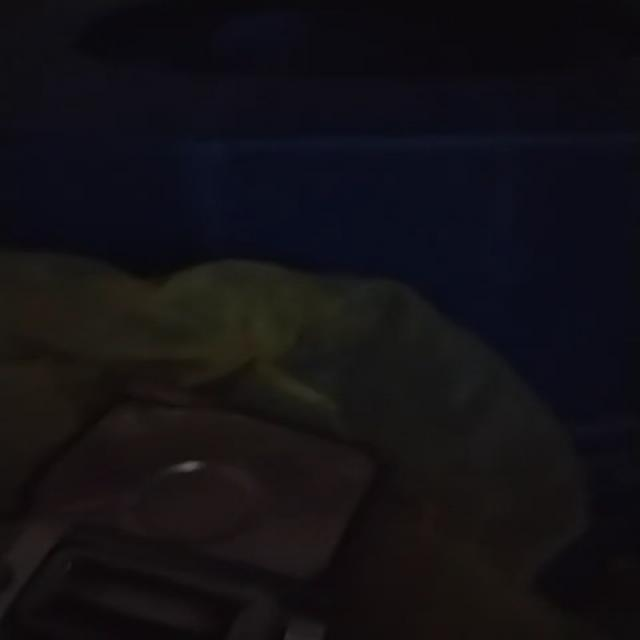bin: (2, 0, 640, 640)
metal: (3, 405, 376, 640)
